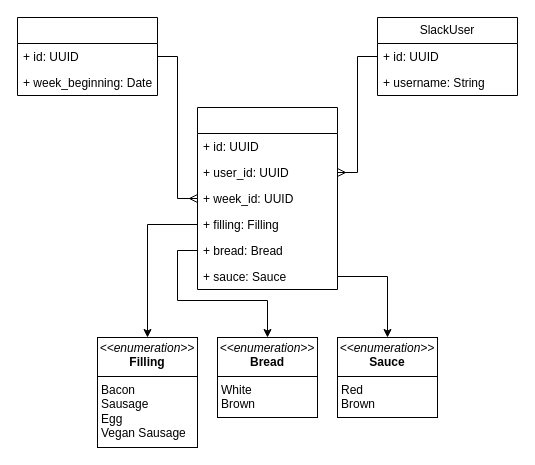
Image size: 535x465. Some labels were removed from this diagram. The shapes that lost their labels are listed below. From the top down, each one's box as (x1, y1, x2, y2) in pixels, then its label:
(16, 16, 158, 96): WeekOrder
(196, 106, 338, 290): CobOrder
